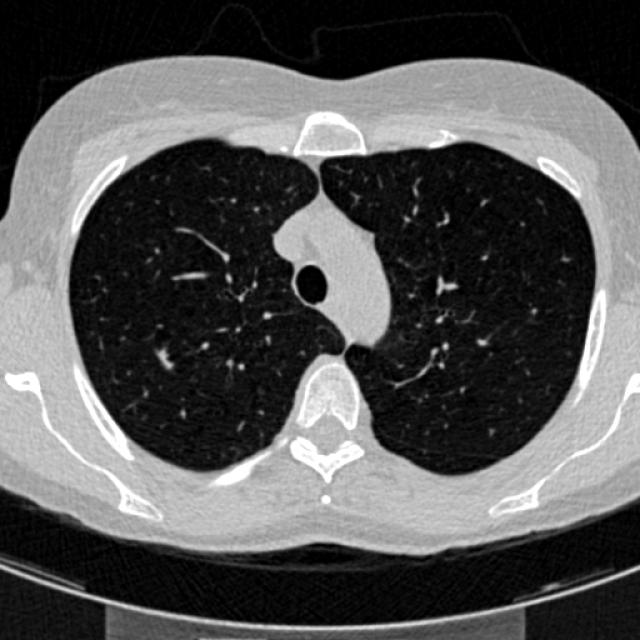nodule: (143, 338, 185, 380)
